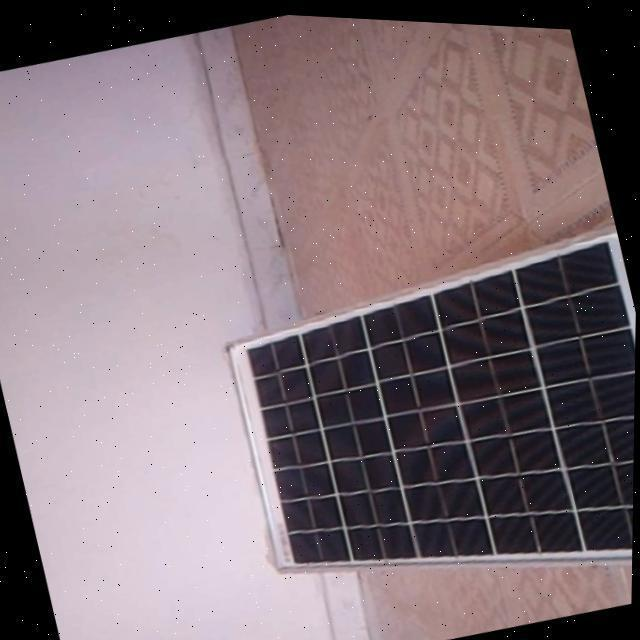Normal Solar Panel: (210, 200, 638, 640)
